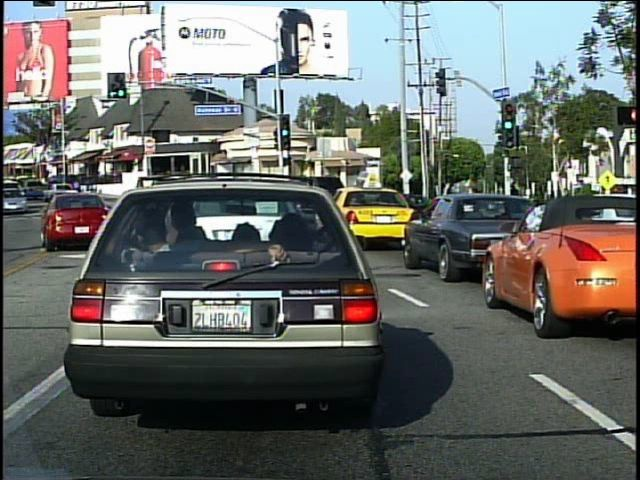person: (466, 183, 490, 230)
